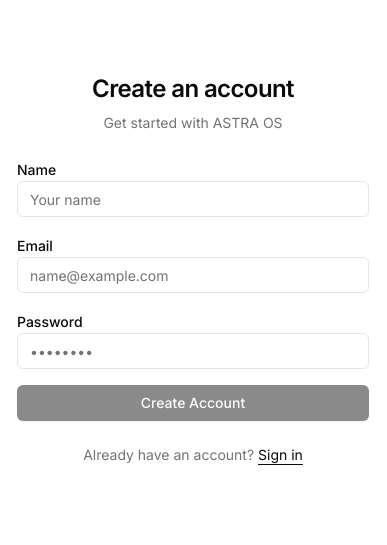
SignupPage › shows Creating account... while loading
In the field labelled "Name": (193, 199) [17,181,369,217], type "Carol"
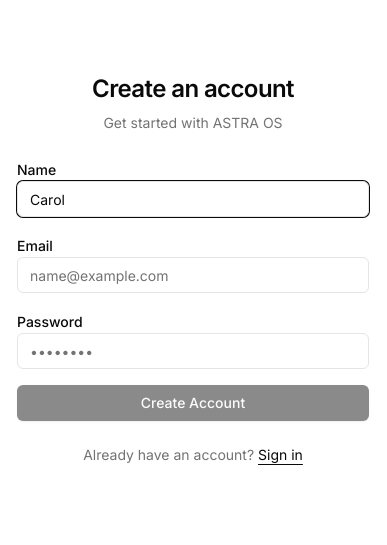
In the field labelled "Email": (193, 275) [17,257,369,293], type "c@d.com"
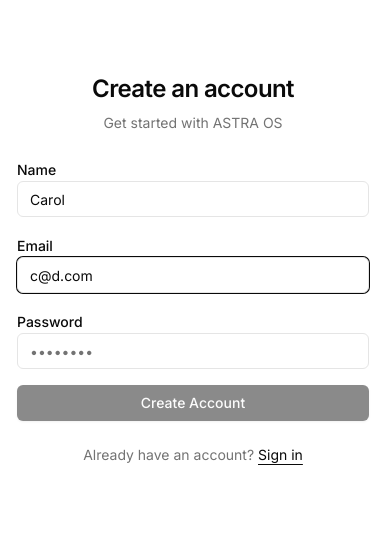
In the password field labelled "Password": (193, 351) [17,333,369,369], type "Secure123!"
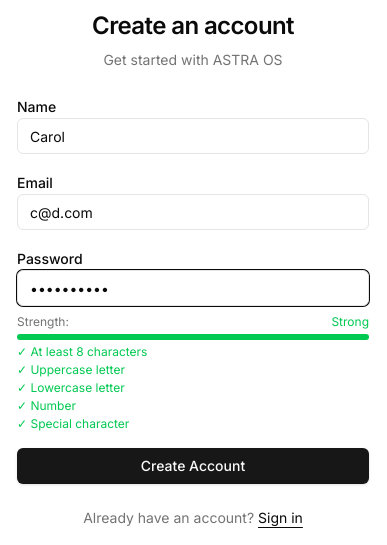
Click the button "Create Account": (193, 466) [17,448,369,484]
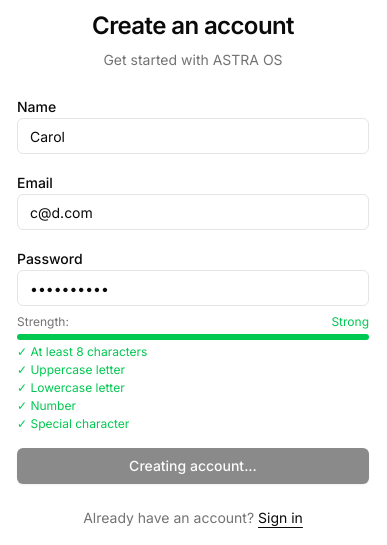
Check: the button "Creating account..." is shown, box [17,448,369,484]
